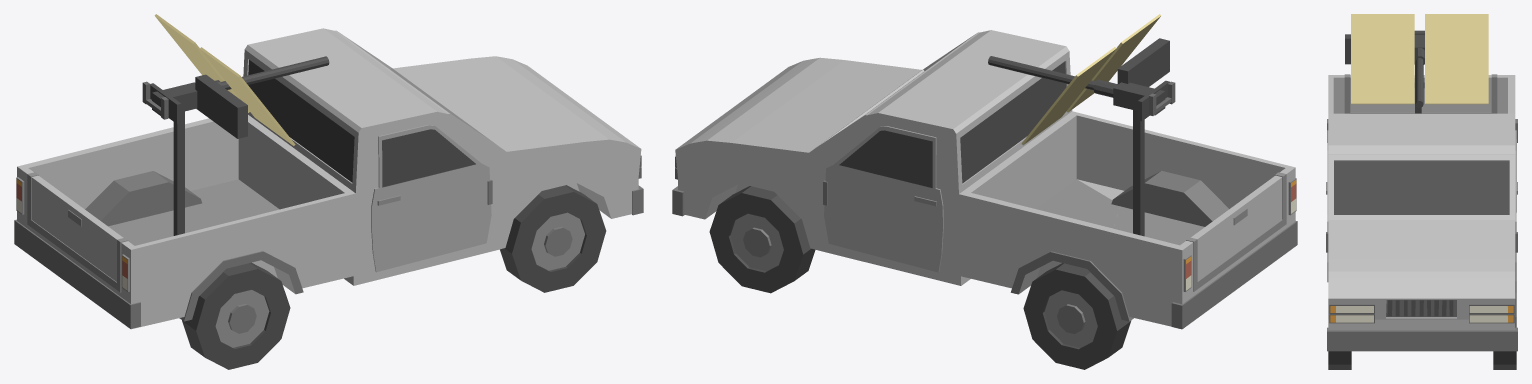
File: kar21.fbx
3 renders of one model, left to right at view 1: azimuth 30°, elevation 25°; view 2: azimuth 150°, elevation 25°; view 3: azimuth 270°, elevation 25°, orthographic. The views are drawn at different scales.
Parts seen in each view (by area): view 1: Boole, Cylinder_4, Cylinder_3, Cylinder_2; view 2: Boole, Cylinder_4, Cylinder, Cylinder_1; view 3: Boole, Cylinder_4, Cylinder, Cylinder_3.
Boxes of the visible parts, x1,y1,x2,y2 form: Boole: (14,28,643,329); Cylinder_4: (142,14,329,235); Cylinder_3: (500,185,606,292); Cylinder_2: (182,262,290,369); Boole: (672,30,1297,329); Cylinder_4: (988,14,1175,236); Cylinder: (709,186,815,293); Cylinder_1: (1023,263,1131,369); Boole: (1326,74,1517,351); Cylinder_4: (1345,14,1488,113); Cylinder: (1493,281,1516,369); Cylinder_3: (1328,351,1351,369).
Size of the model in its own units: 521 by 269 by 205.
